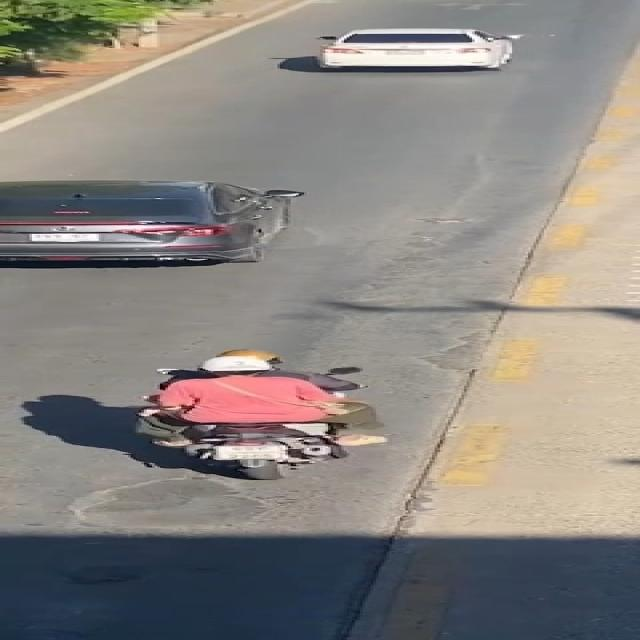car: (0, 167, 335, 275), (282, 22, 548, 88)
